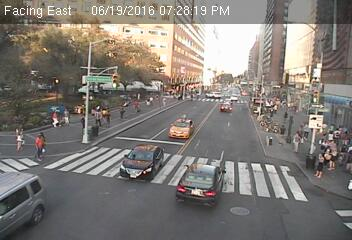neg: (301, 73, 331, 112), (313, 178, 336, 208), (264, 57, 286, 85), (134, 146, 154, 173), (294, 166, 314, 193), (69, 129, 88, 154), (18, 204, 36, 229), (285, 69, 302, 91), (333, 176, 349, 197), (52, 141, 67, 161), (317, 87, 332, 106), (334, 75, 349, 94), (340, 105, 351, 127), (179, 71, 192, 88), (14, 160, 26, 177), (295, 81, 307, 97), (261, 135, 273, 150), (303, 147, 313, 161), (152, 104, 162, 117)
pos: (308, 151, 333, 185), (28, 129, 52, 161), (8, 121, 31, 152), (323, 139, 343, 166), (272, 122, 292, 149), (296, 118, 315, 144), (46, 106, 64, 131), (99, 107, 117, 132), (287, 131, 305, 154), (115, 104, 130, 124), (91, 107, 106, 127), (129, 97, 142, 115), (60, 107, 73, 124), (280, 107, 292, 124)
